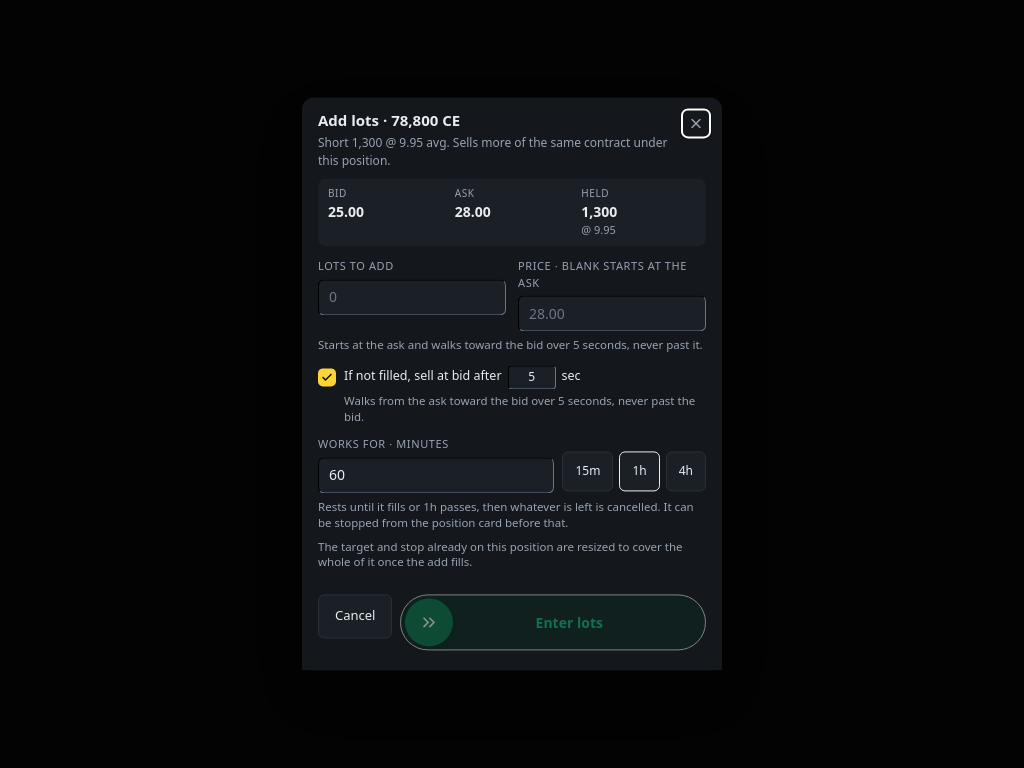
the preview › a typed price is sent, and named as the floor
Type "100" into the field labelled "Lots to add" at (412, 297), box [318,279,506,315]
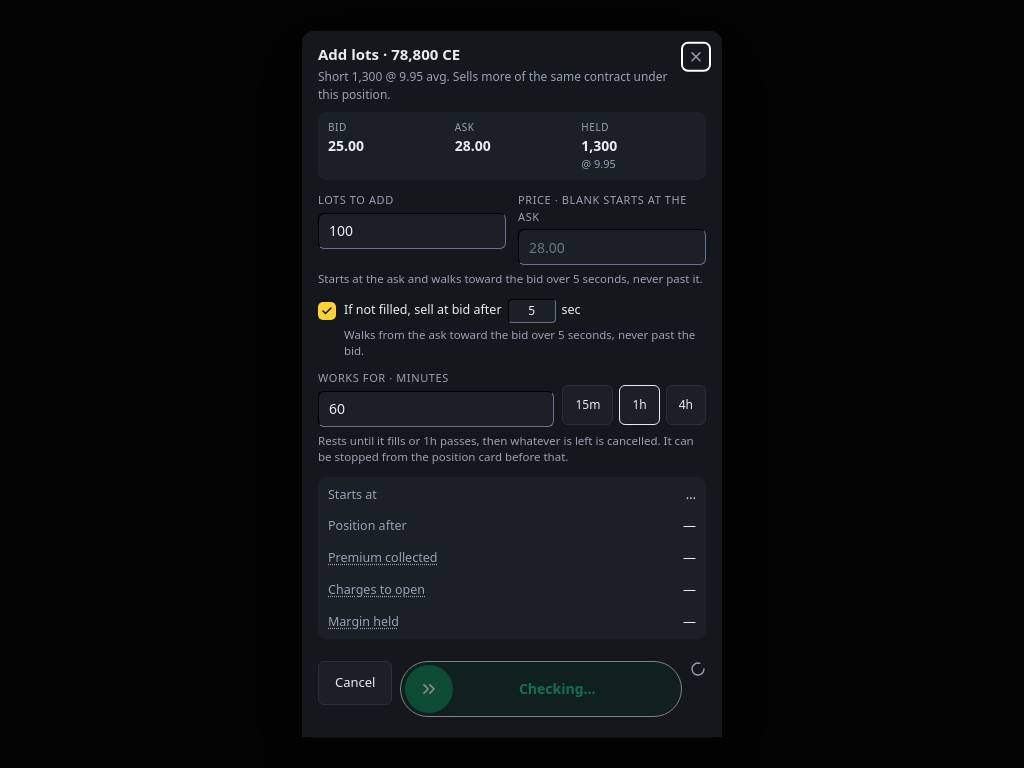
Type "27.5" into the field named "add price" at (612, 247), box [518,229,706,265]
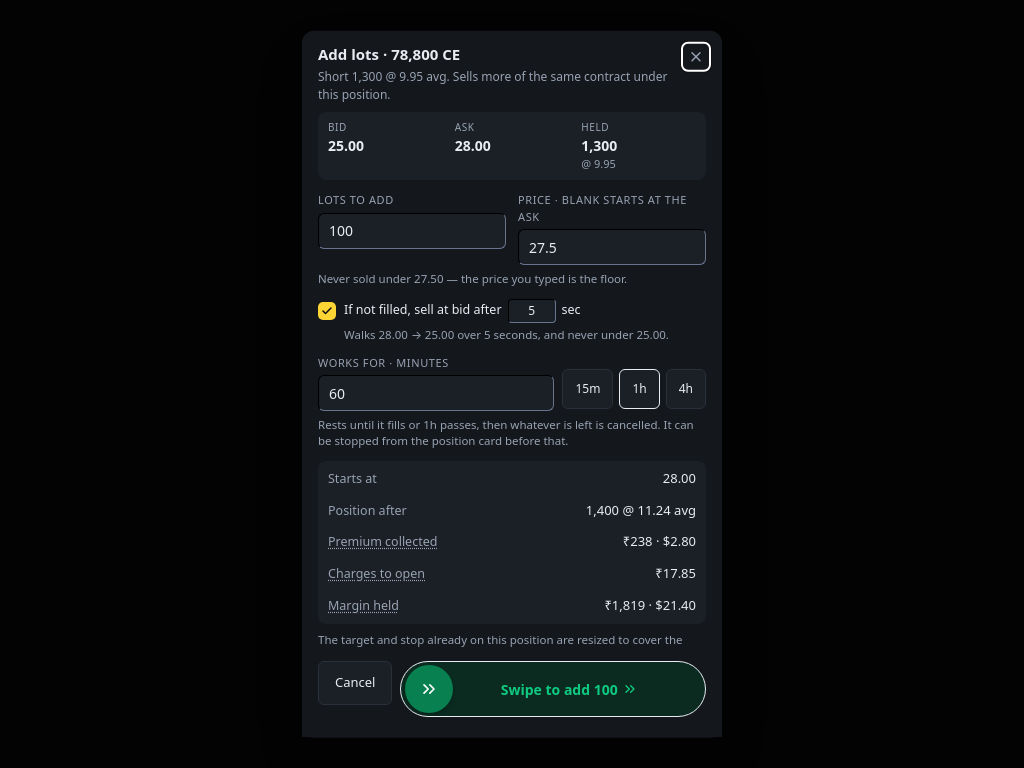
Now the text "Never sold under 27.50 — the price you typed is the floor." is shown, box [318,271,627,286]
